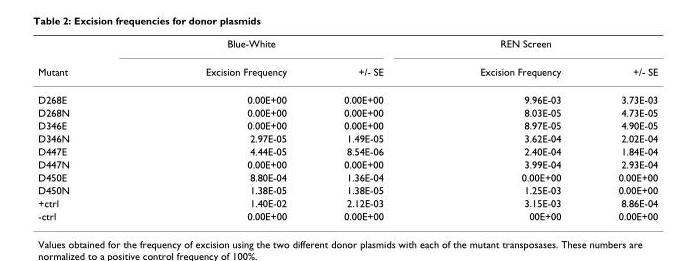table: (37, 37, 657, 221)
table column: (136, 37, 314, 221), (431, 37, 589, 221), (314, 37, 431, 221), (37, 37, 136, 221), (589, 37, 657, 221)
table column header: (37, 37, 657, 85)
table row: (37, 57, 657, 85), (37, 37, 657, 57), (37, 85, 657, 105), (37, 105, 657, 118), (37, 118, 657, 131), (37, 131, 657, 144), (37, 144, 657, 157), (37, 157, 657, 170), (37, 170, 657, 183), (37, 183, 657, 196), (37, 196, 657, 209), (37, 209, 657, 221)
table spanning cell: (136, 37, 431, 57), (37, 37, 136, 85), (431, 37, 657, 57)
